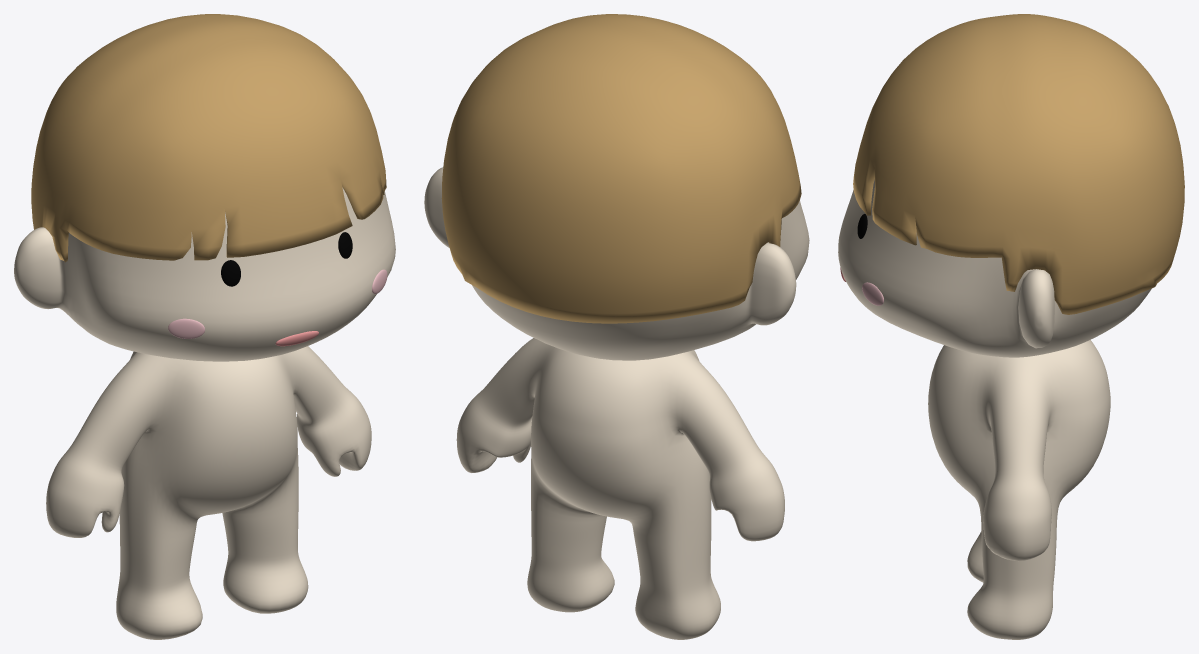
File: Boyyyy.fbx
3 renders of one model, left to right at view 1: azimuth 30°, elevation 25°; view 2: azimuth 150°, elevation 25°; view 3: azimuth 270°, elevation 25°, orthographic. The views are drawn at different scales.
Parts seen in each view (by area): view 1: Cube.011, Cube.007, Cube.006, Sphere.001, Sphere; view 2: Cube.011, Cube.007, Cube.006; view 3: Cube.011, Cube.007, Cube.006.
Boxes of the visible parts, x1,y1,x2,y2 form: Cube.011: [31, 14, 386, 262]; Cube.007: [46, 346, 371, 639]; Cube.006: [14, 187, 395, 361]; Sphere.001: [168, 269, 387, 338]; Sphere: [221, 232, 352, 286]; Cube.011: [441, 14, 801, 323]; Cube.007: [456, 338, 784, 639]; Cube.006: [424, 167, 809, 360]; Cube.011: [853, 14, 1184, 314]; Cube.007: [928, 340, 1110, 639]; Cube.006: [838, 179, 1151, 357].
Bounding box in the file's own units: 232 × 352 × 194.
